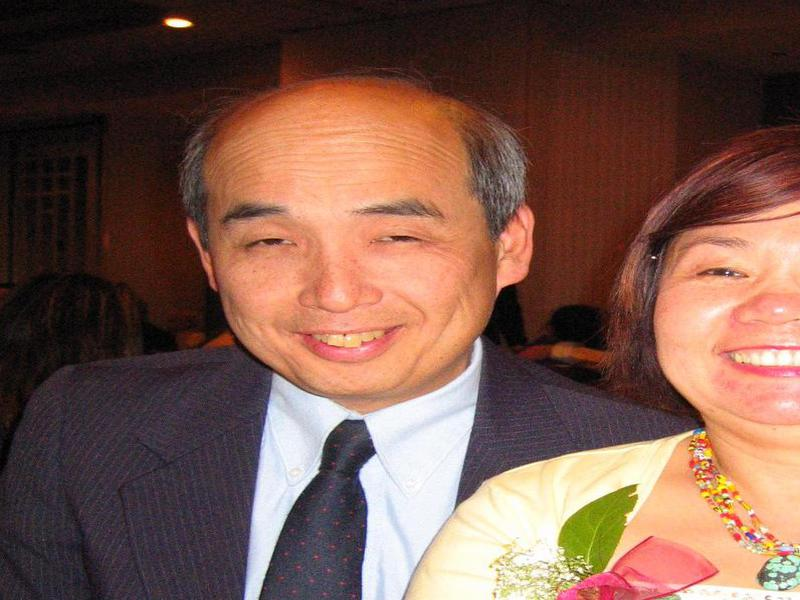person: (1, 77, 690, 600), (390, 129, 800, 598)
